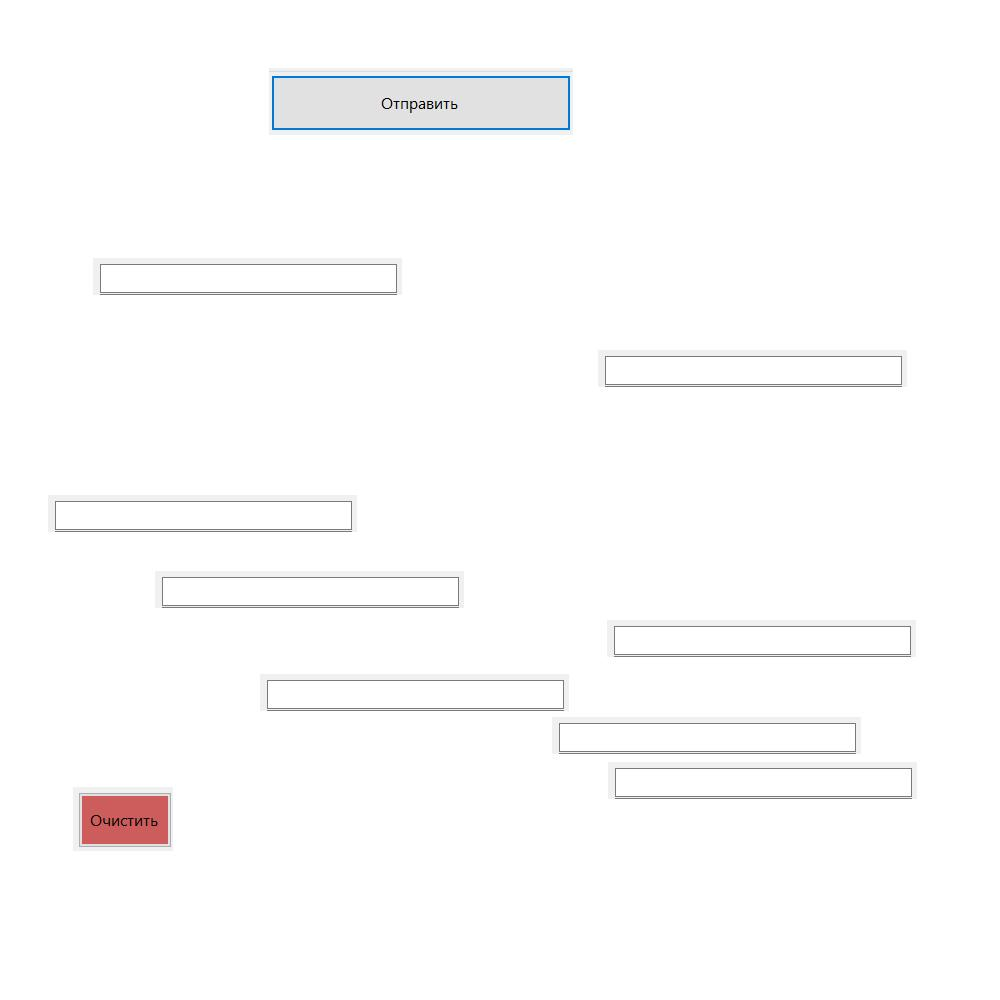Button: (269, 68, 573, 135), (73, 787, 173, 851)
EditText-: (598, 350, 907, 387), (48, 495, 357, 532), (260, 674, 569, 711), (607, 620, 916, 657), (155, 571, 464, 608), (552, 717, 861, 754), (608, 762, 917, 799), (93, 258, 402, 295)
